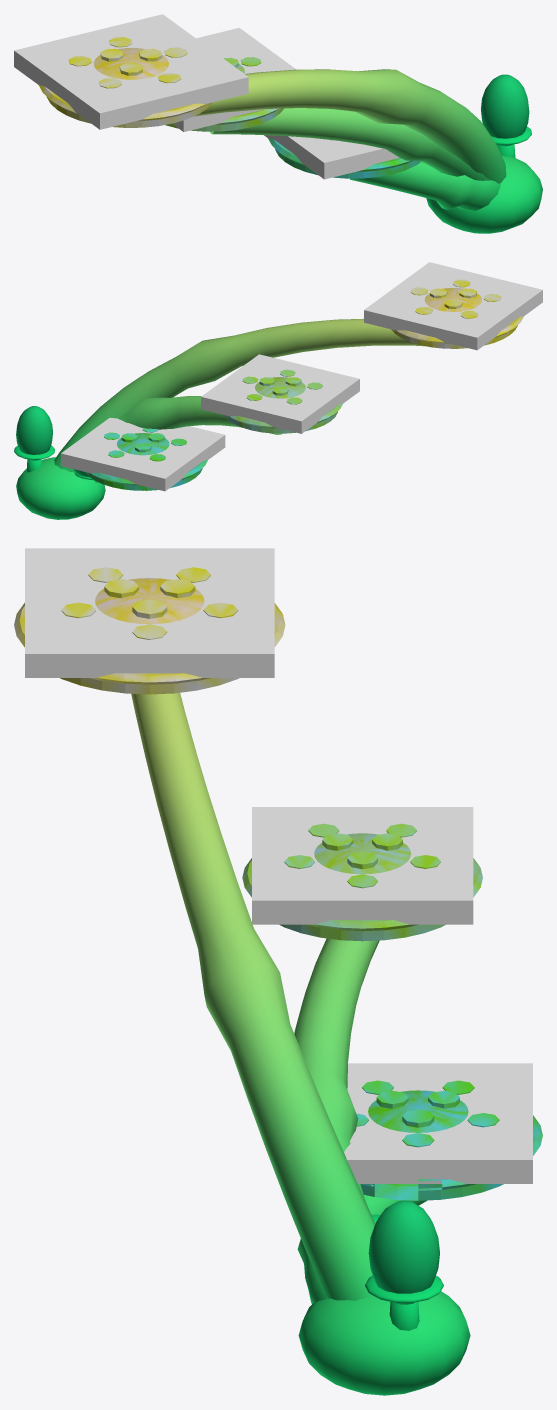
The model's file is Plant_Platform_04.fbx.
3 renders of one model, top to bottom at view 1: azimuth 30°, elevation 25°; view 2: azimuth 150°, elevation 25°; view 3: azimuth 270°, elevation 25°, orthographic. The views are drawn at different scales.
Parts seen in each view (by area): view 1: Plant_Platform_04, COL_04_2, COL_04_0, COL_04_1; view 2: Plant_Platform_04, COL_04_2, COL_04_1, COL_04_0; view 3: Plant_Platform_04, COL_04_2, COL_04_1, COL_04_0.
Part boxes in pixels (bbox=[...]): Plant_Platform_04: bbox=[38, 37, 542, 233]; COL_04_2: bbox=[14, 14, 248, 129]; COL_04_0: bbox=[264, 135, 399, 179]; COL_04_1: bbox=[172, 27, 296, 131]; Plant_Platform_04: bbox=[14, 279, 523, 519]; COL_04_2: bbox=[364, 262, 542, 350]; COL_04_1: bbox=[201, 354, 359, 433]; COL_04_0: bbox=[61, 417, 225, 491]; Plant_Platform_04: bbox=[14, 567, 542, 1395]; COL_04_2: bbox=[25, 548, 274, 677]; COL_04_1: bbox=[252, 807, 473, 924]; COL_04_0: bbox=[344, 1063, 532, 1183].
Size of the model in its own units: 7.18 by 4.03 by 4.
